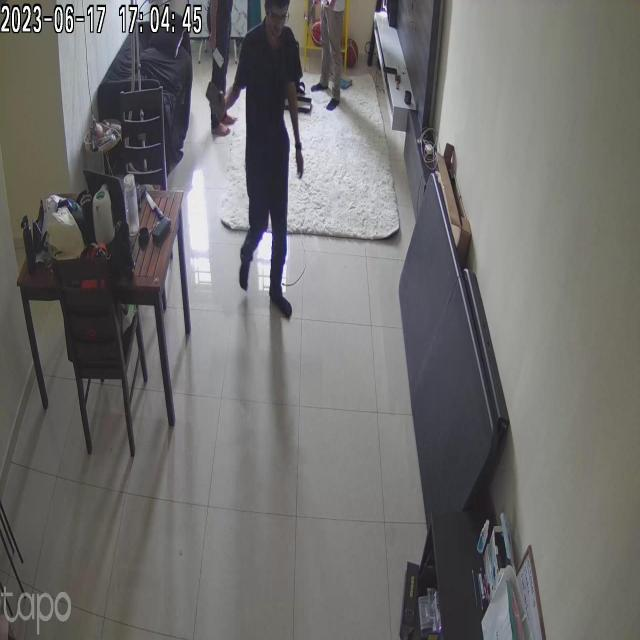Knife: (205, 38, 230, 74)
